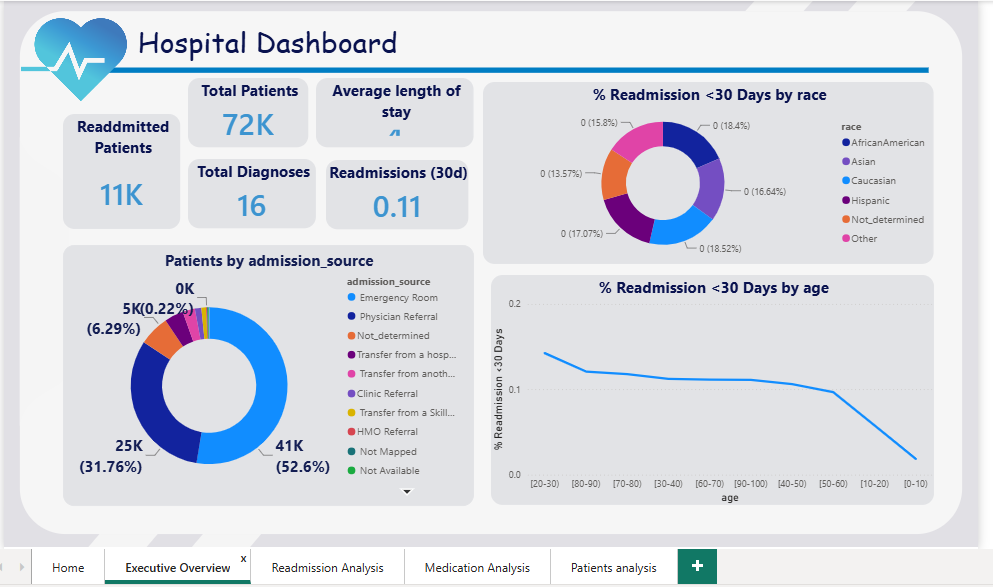

The page's visual inventory and layout, read from the dashboard file:
{"tool":"powerbi","page":{"name":"Executive Overview","canvas":[1280,720],"ordinal":1},"visuals":[{"type":"image","box":[12.5,9.7,158.4,136.2],"z":0},{"type":"textbox","box":[170.9,22.2,359.9,79.2],"z":1000},{"type":"cardVisual","title":"Total Diagnoses","fields":{"Data":["Dax Measure.Totsl Diagnoses"]},"box":[241.9,207.4,168.5,90.7],"z":2000},{"type":"cardVisual","title":"Total Patients","fields":{"Data":["Dax Measure.Unique Patients"]},"box":[241.9,100.8,158.4,90.7],"z":3000},{"type":"cardVisual","title":"Readmissions (30d)","fields":{"Data":["Dax Measure.Readmissions (30d)"]},"box":[423.4,208.8,187.2,90.7],"z":4000},{"type":"cardVisual","title":"Average length of stay","fields":{"Data":["Dax Measure.ALOS (Days)"]},"box":[410.4,100.8,207.4,90.7],"z":5000},{"type":"donutChart","fields":{"Series":["Data.race"],"Y":["Dax Measure.% Readmission <30 Days"]},"box":[629.3,106.6,591.8,239],"z":6000},{"type":"lineChart","fields":{"Category":["Data.age"],"Y":["Dax Measure.% Readmission <30 Days"]},"box":[639.4,360,581.8,302.4],"z":7000},{"type":"donutChart","title":"Patients by admission_source","fields":{"Category":["Data.admission_source"],"Y":["Dax Measure.NumOfPatients"]},"box":[77.8,321.1,540,342.7],"z":8000},{"type":"cardVisual","title":"Readdmitted Patients","fields":{"Data":["Dax Measure.ReadmittedCount"]},"box":[77.8,148.3,154.1,151.2],"z":9000}]}

Visuals, with their boxes on the page's 1280x720 design canvas (x1, y1, x2, y2). These are canvas units, not pixel positions in the 993x587 screenshot, which may show the page scaled, cropped or inside an application window:
image: rect(12, 10, 171, 146)
textbox: rect(171, 22, 531, 101)
"Total Diagnoses" cardVisual: rect(242, 207, 410, 298)
"Total Patients" cardVisual: rect(242, 101, 400, 192)
"Readmissions (30d)" cardVisual: rect(423, 209, 611, 300)
"Average length of stay" cardVisual: rect(410, 101, 618, 192)
donutChart - Data.race x Dax Measure.% Readmission <30 Days: rect(629, 107, 1221, 346)
lineChart - Data.age x Dax Measure.% Readmission <30 Days: rect(639, 360, 1221, 662)
"Patients by admission_source" donutChart: rect(78, 321, 618, 664)
"Readdmitted Patients" cardVisual: rect(78, 148, 232, 300)
